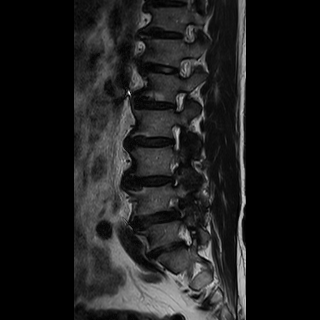LFS0: (167, 84, 190, 120)
